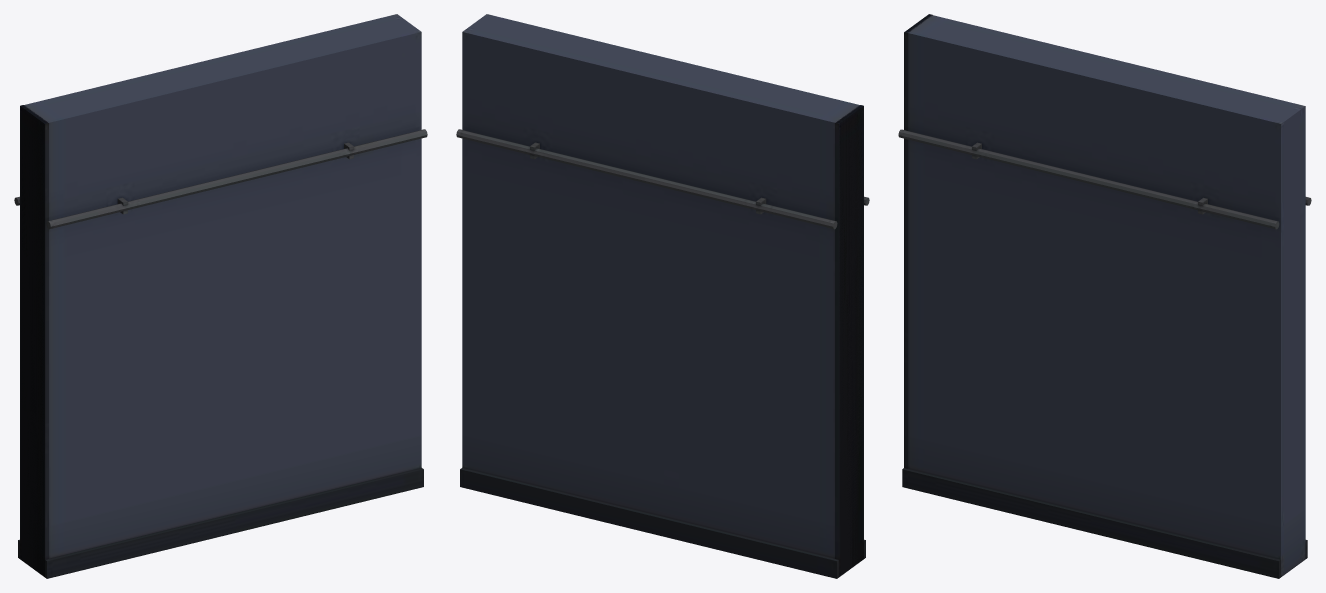
File: backstage_wall.glb
3 views of the same model, side by side, from view 1: azimuth 30°, elevation 25°; view 2: azimuth 150°, elevation 25°; view 3: azimuth 330°, elevation 25° (orthographic).
Visible parts, largest first — view 1: BackstageWall; view 2: BackstageWall; view 3: BackstageWall.
Part boxes in pixels (x1,y1,x2,y2): BackstageWall: [14, 14, 427, 578]; BackstageWall: [456, 14, 869, 578]; BackstageWall: [898, 14, 1311, 578].
Bounding box in the file's own units: 4 × 4.6 × 0.6699.
Materials: 4 (4 with a texture image).
